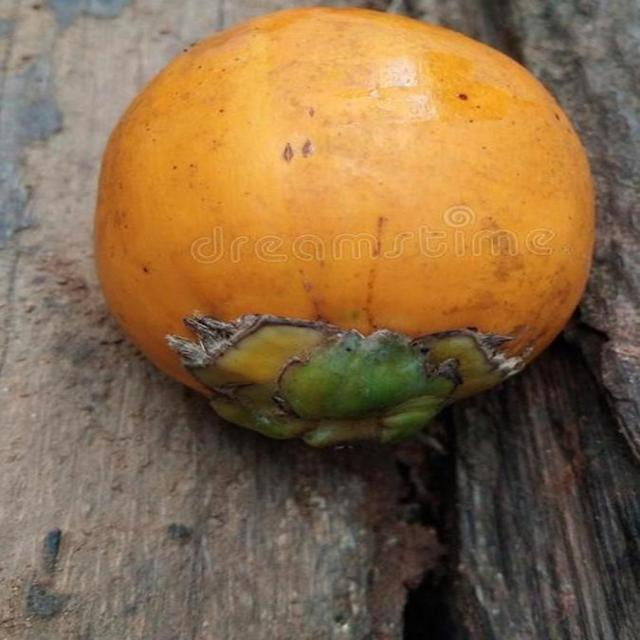good: (92, 8, 597, 450)
